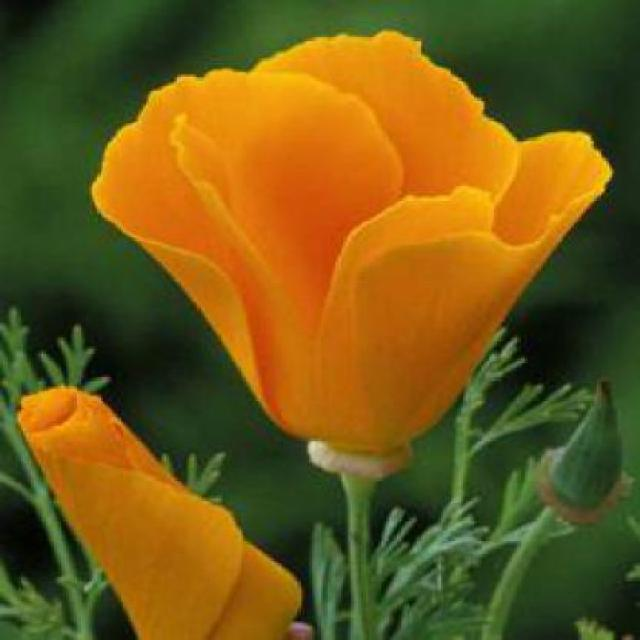Flower: (90, 30, 615, 455)
